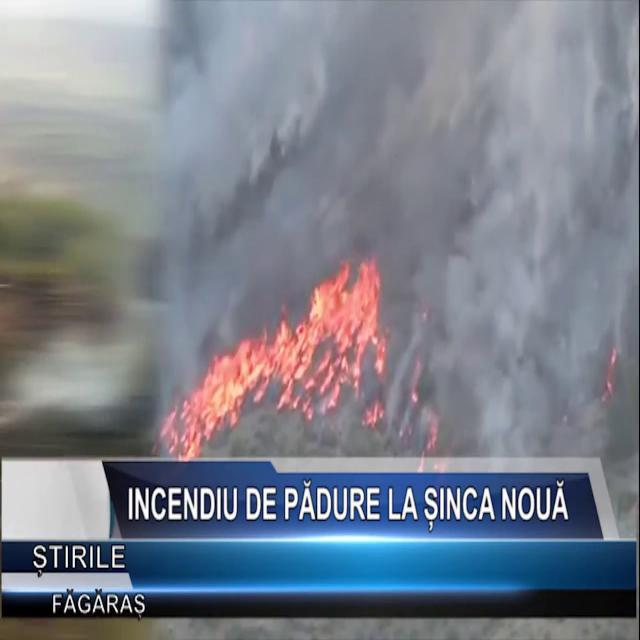Fire: (175, 249, 391, 455)
Smoke: (9, 1, 630, 450)
